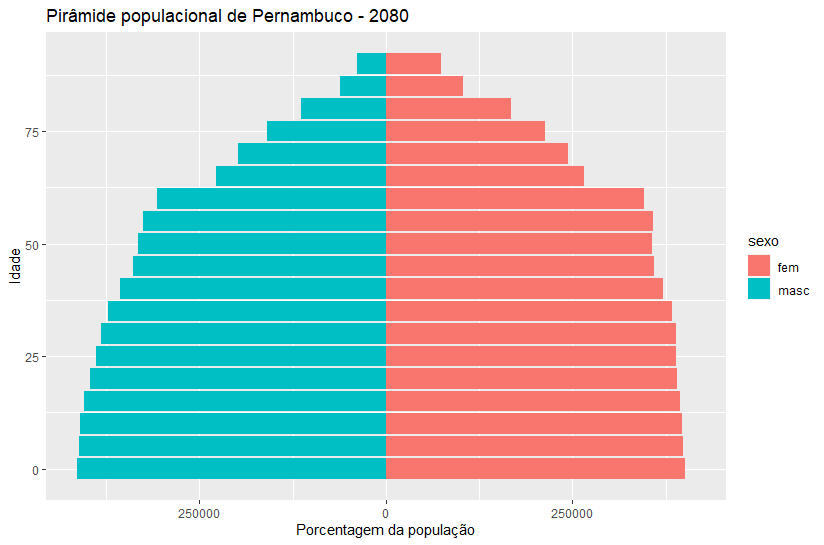

The page's visual inventory and layout, read from the dashboard file:
{"tool":"powerbi","page":{"name":"Página 2","canvas":[1280,720],"ordinal":1},"visuals":[{"type":"clusteredBarChart","fields":{"Category":["Sheet 1.Idade"],"Y":["Sum(Sheet 1.Ecuador)","Sum(Sheet 1.Togo)","Sum(Sheet 1.Greece)"]},"box":[184.2,91.2,990.1,550.1],"z":0},{"type":"textbox","box":[576.9,59.9,205.7,31.3],"z":1}]}

Visuals, with their boxes on the page's 1280x720 design canvas (x1, y1, x2, y2). These are canvas units, not pixel positions in the 824x545 screenshot, which may show the page scaled, cropped or inside an application window:
clusteredBarChart - Sheet 1.Idade x Sum(Sheet 1.Ecuador): left=184, top=91, right=1174, bottom=641
textbox: left=577, top=60, right=783, bottom=91
